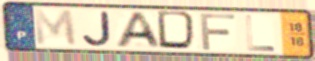A: (113, 11, 165, 50)
D: (155, 9, 201, 52)
F: (198, 12, 238, 52)
J: (80, 10, 114, 48)
L: (244, 14, 277, 53)
M: (32, 8, 80, 48)
